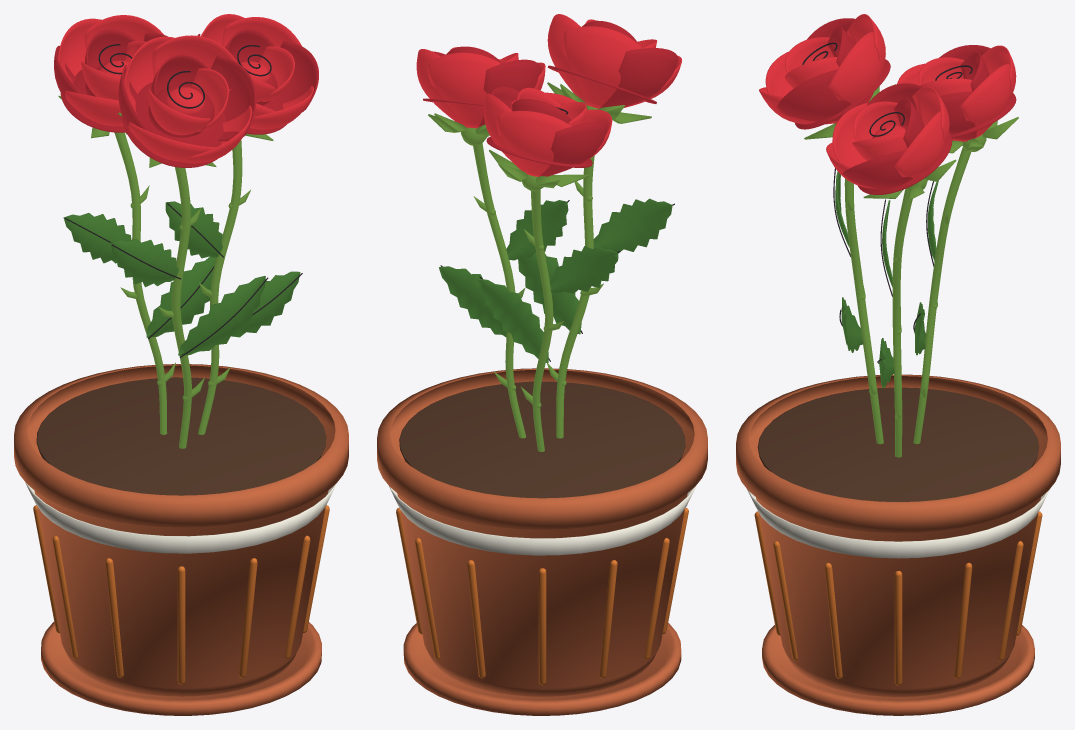
File: rose_planter.glb
3 views of the same model, side by side, from view 1: azimuth 30°, elevation 25°; view 2: azimuth 150°, elevation 25°; view 3: azimuth 270°, elevation 25° (orthographic). The views are drawn at different scales.
Visible parts, largest first — view 1: Terracotta_open_pot, Removable_soil, Separate_saucer, Cream_botanical_band, Serrated_leaf_2.001, Curved_stem.001, Serrated_leaf_1.001, Serrated_leaf_2.002, Curved_stem.002, Curved_stem, Serrated_leaf_1.002, Closed_corolla_base.001 (+33 smaller); view 2: Terracotta_open_pot, Removable_soil, Separate_saucer, Cream_botanical_band, Outer_petal_5.001, Outer_petal_5, Outer_petal_5.002, Serrated_leaf_1.001, Outer_petal_4.001, Serrated_leaf_2.002, Serrated_leaf_1.002, Curved_stem.002 (+18 smaller); view 3: Terracotta_open_pot, Removable_soil, Separate_saucer, Cream_botanical_band, Curved_stem.002, Outer_petal_6.001, Curved_stem.001, Curved_stem, Outer_petal_1.001, Outer_petal_6.002, Outer_petal_6, Outer_petal_1 (+27 smaller).
Part boxes in pixels (bbox=[...]): Terracotta_open_pot: bbox=[14, 364, 348, 696]; Removable_soil: bbox=[36, 377, 326, 495]; Separate_saucer: bbox=[41, 622, 321, 715]; Cream_botanical_band: bbox=[25, 482, 336, 553]; Serrated_leaf_2.001: bbox=[178, 276, 265, 355]; Curved_stem.001: bbox=[171, 167, 191, 448]; Serrated_leaf_1.001: bbox=[110, 238, 178, 287]; Serrated_leaf_2.002: bbox=[146, 257, 216, 337]; Curved_stem.002: bbox=[114, 132, 167, 434]; Curved_stem: bbox=[198, 140, 242, 434]; Serrated_leaf_1.002: bbox=[63, 213, 131, 263]; Closed_corolla_base.001: bbox=[121, 82, 225, 167]; Terracotta_open_pot: bbox=[377, 368, 707, 696]; Removable_soil: bbox=[399, 381, 685, 498]; Separate_saucer: bbox=[403, 623, 681, 715]; Cream_botanical_band: bbox=[389, 485, 696, 555]; Outer_petal_5.001: bbox=[563, 26, 642, 108]; Outer_petal_5: bbox=[427, 52, 501, 128]; Outer_petal_5.002: bbox=[496, 111, 571, 176]; Serrated_leaf_1.001: bbox=[593, 198, 672, 253]; Outer_petal_4.001: bbox=[600, 48, 678, 108]; Serrated_leaf_2.002: bbox=[477, 278, 548, 363]; Serrated_leaf_1.002: bbox=[550, 246, 618, 293]; Curved_stem.002: bbox=[531, 189, 553, 451]; Terracotta_open_pot: bbox=[736, 374, 1060, 696]; Removable_soil: bbox=[757, 387, 1039, 501]; Separate_saucer: bbox=[762, 625, 1034, 715]; Cream_botanical_band: bbox=[747, 489, 1049, 558]; Curved_stem.002: bbox=[913, 147, 971, 443]; Outer_petal_6.001: bbox=[828, 32, 881, 105]; Curved_stem.001: bbox=[844, 178, 883, 444]; Curved_stem: bbox=[892, 189, 912, 457]; Outer_petal_1.001: bbox=[776, 69, 851, 121]; Outer_petal_6.002: bbox=[960, 64, 1010, 137]; Outer_petal_6: bbox=[894, 111, 944, 178]; Outer_petal_1: bbox=[842, 150, 912, 188].
Size of the model in its own units: 0.58 by 1.23 by 0.58.
